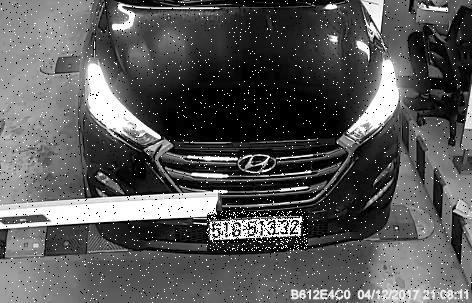License-plate: (208, 213, 309, 253)
